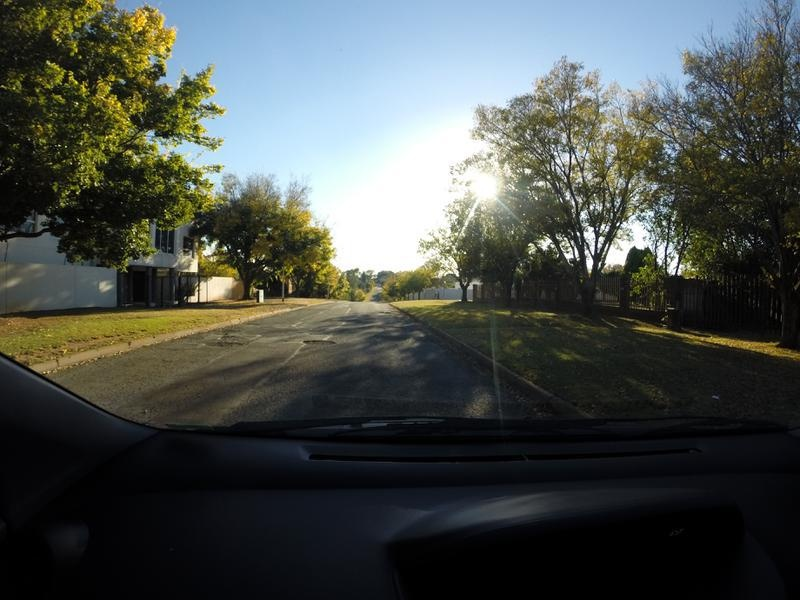pothole: (297, 333, 334, 349), (203, 338, 240, 349)
